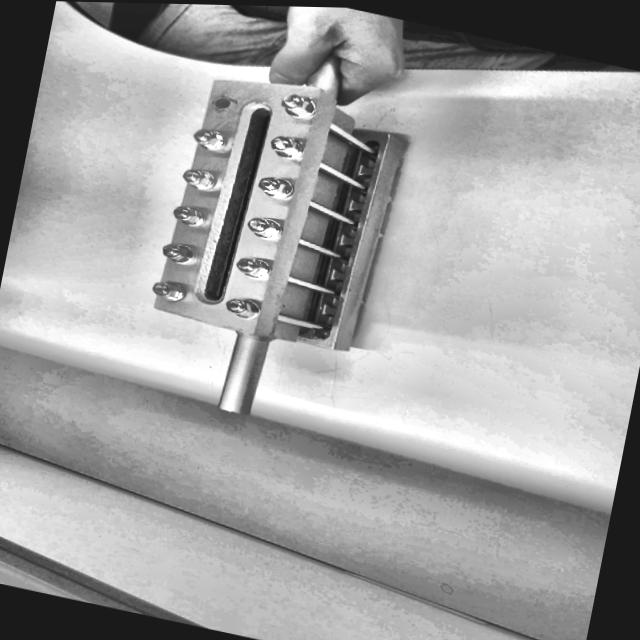ShuiWeiQi_11: (69, 43, 436, 443)
